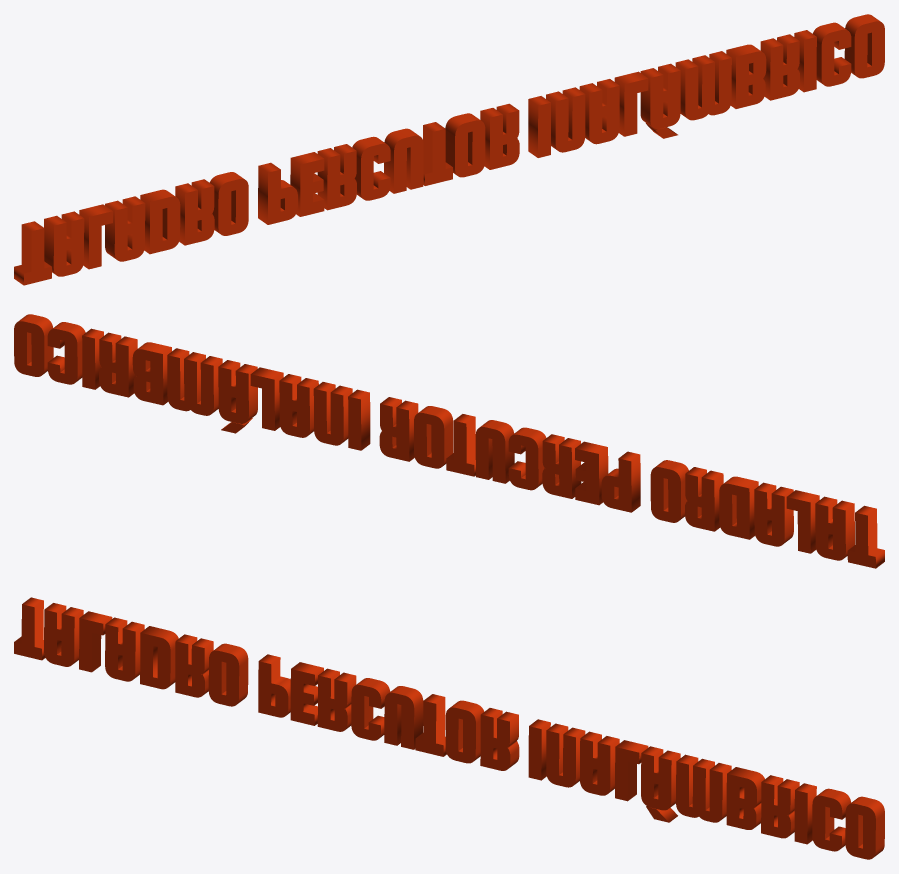
Rendered from taladro10.obj.
3 views of the same model, one above another, from view 1: azimuth 30°, elevation 25°; view 2: azimuth 150°, elevation 25°; view 3: azimuth 330°, elevation 25° (orthographic).
Parts seen in each view (by area): view 1: Texto; view 2: Texto; view 3: Texto.
Part boxes in pixels (<box>): Texto: <box>14,14,884,285</box>; Texto: <box>14,314,884,568</box>; Texto: <box>14,597,884,859</box>.
Size of the model in its own units: 12.63 by 0.9401 by 0.4508.
